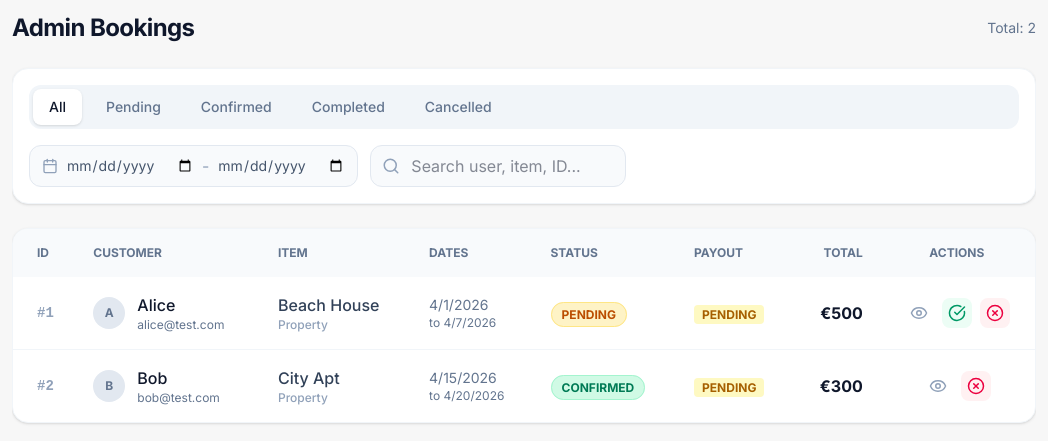
Test: BookingsPage › filtering by search query: matches user full_name
Expected: the text "Alice" is shown, x1=137 y1=295 x2=175 y2=315
Type "Alice" into the field with placeholder "Search user, item, ID...".
click(498, 166); type("Alice")  # box x1=370 y1=145 x2=626 y2=187
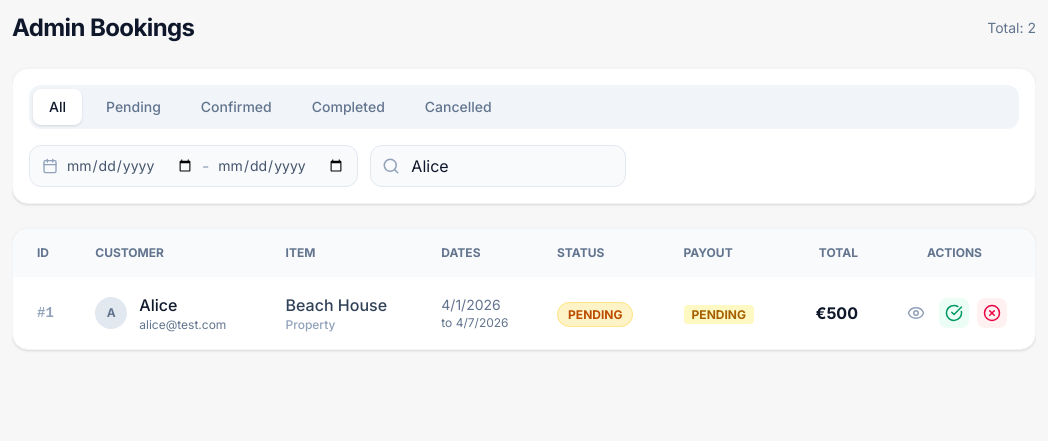
Expected: the text "Alice" is shown, x1=139 y1=295 x2=177 y2=315
Expected: the text "Bob" is gone
